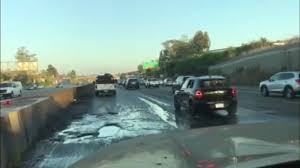pothole: (54, 111, 129, 142), (161, 115, 216, 129), (23, 149, 62, 168), (138, 94, 171, 113)
